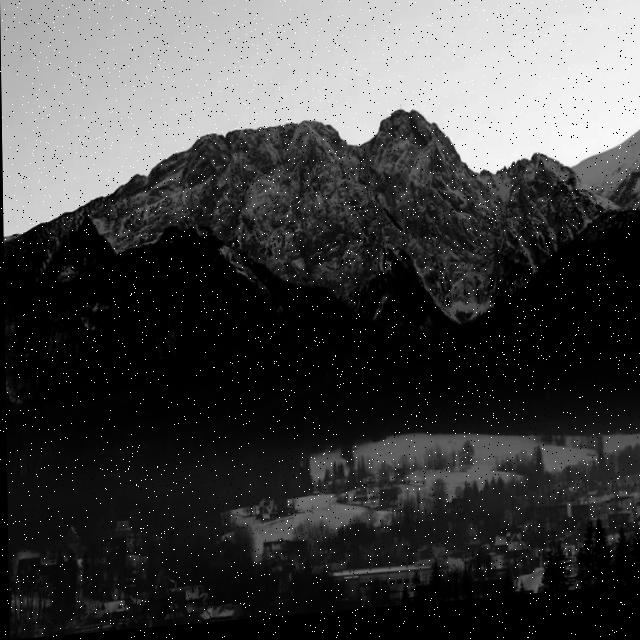Giewont: (323, 3, 488, 222)
Maly giewont: (457, 53, 619, 254)
